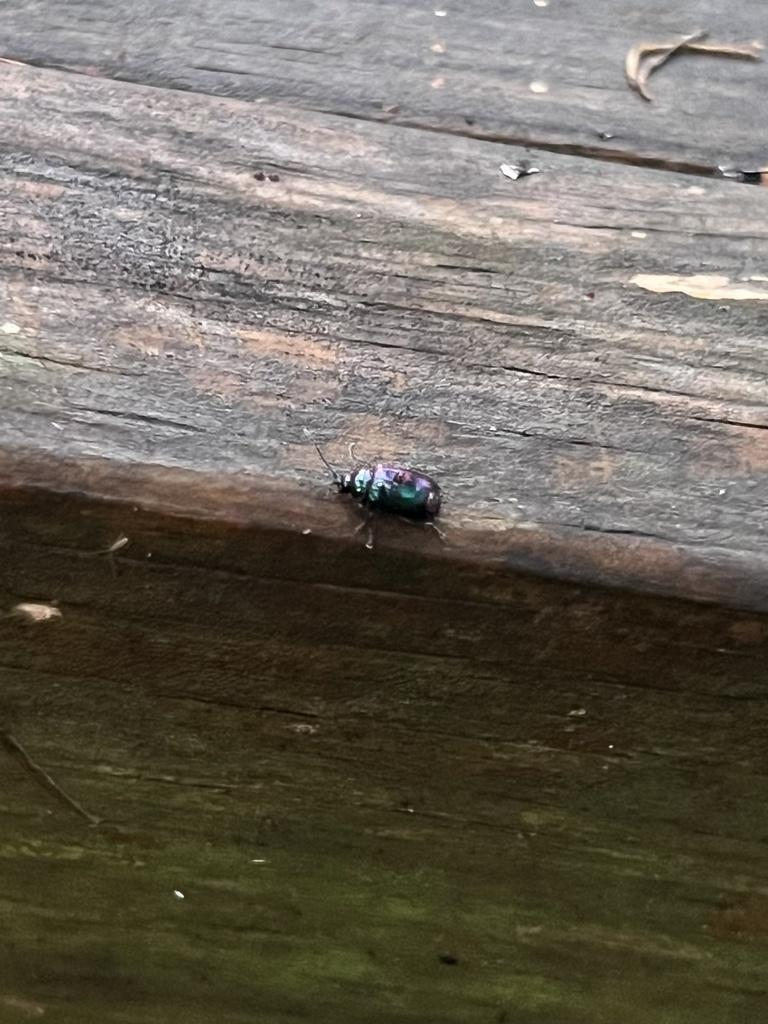flea_beetle: (287, 400, 494, 589)
